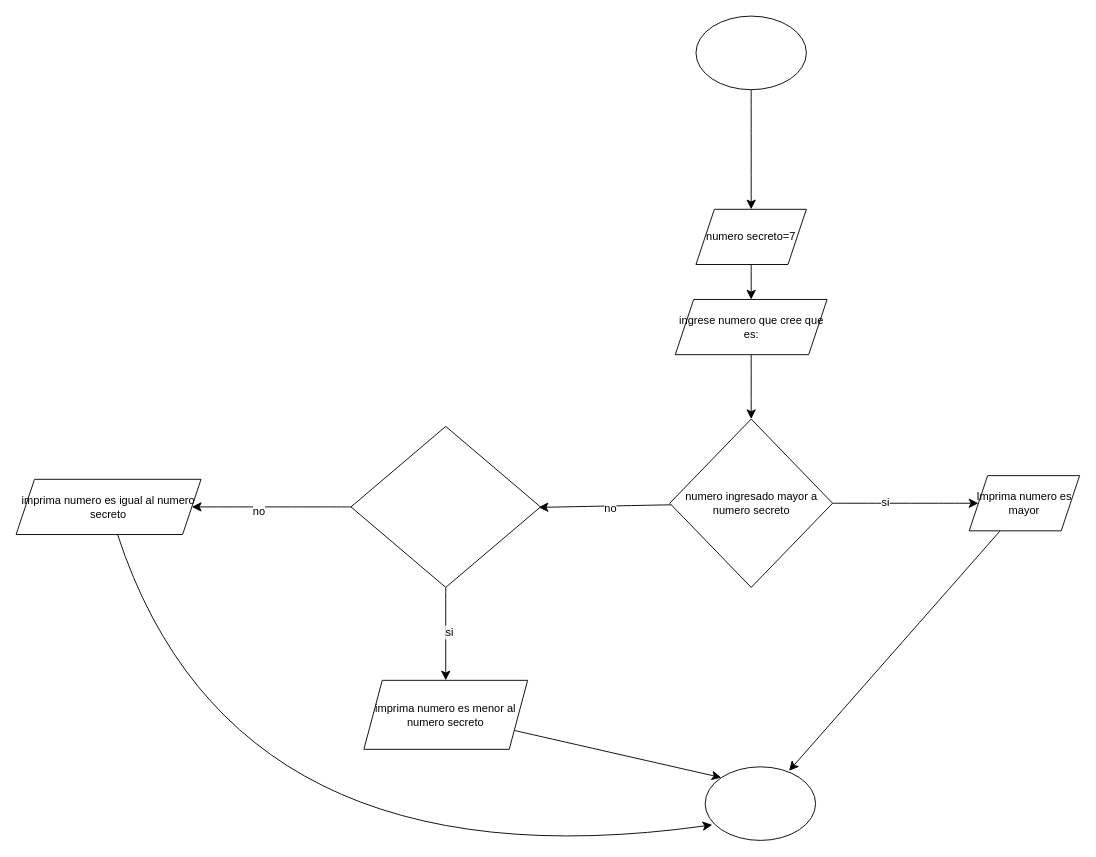
Some shapes in this 1096 by 857 pixel diagram are drawn without their labels. Each missing label, with the centre of its shape:
"fin" belongs at (x=760, y=803).
"inicio" belongs at (x=750, y=52).
"Numero ingresado menor a numero secreto" belongs at (x=445, y=506).
